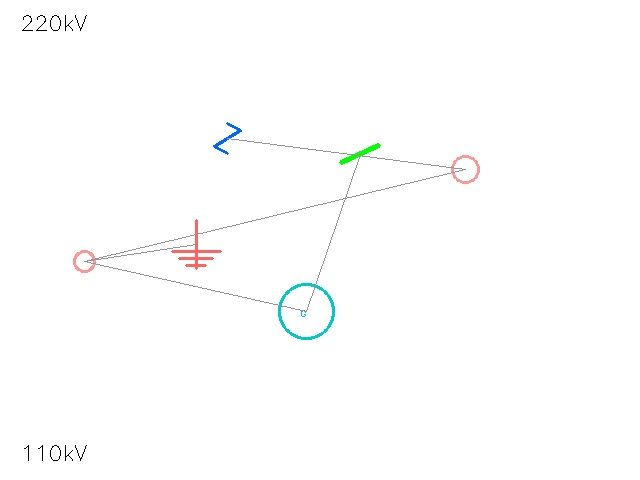busbar: (335, 129, 385, 179)
circuit_breaker: (212, 123, 242, 153)
fuse: (63, 240, 105, 282)
generator: (279, 284, 333, 338)
ground: (172, 220, 220, 268)
surge_arrester: (439, 143, 491, 195)
